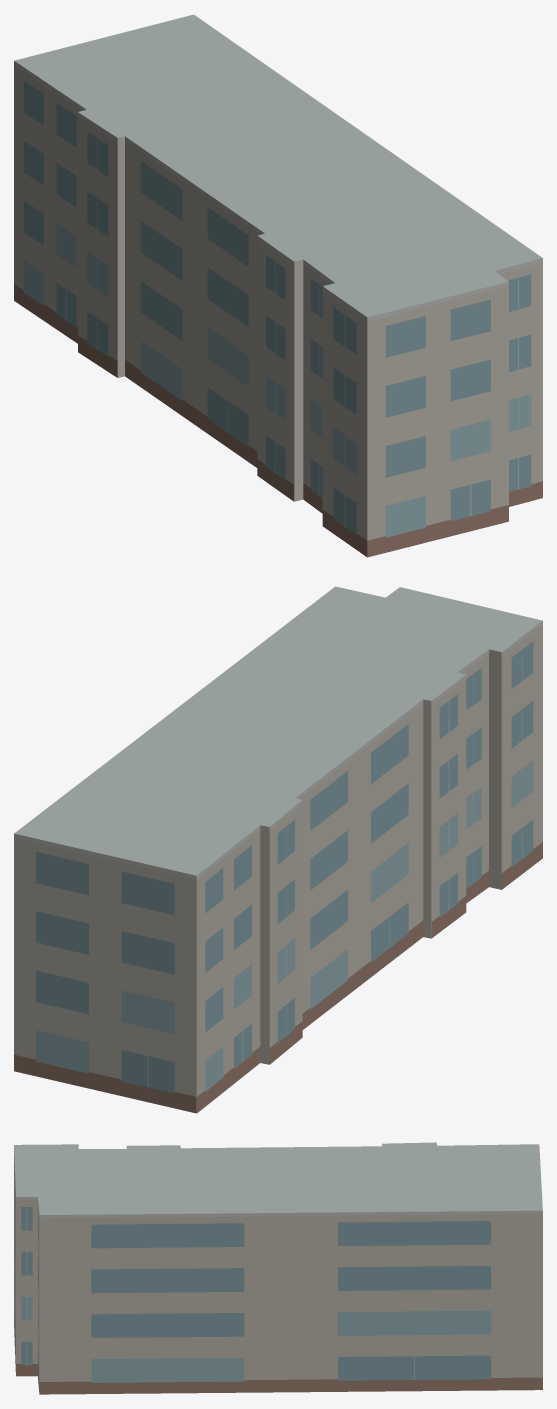
File: survey-upis-32465877.glb
3 views of the same model, one above another, from view 1: azimuth 30°, elevation 25°; view 2: azimuth 150°, elevation 25°; view 3: azimuth 270°, elevation 25° (orthographic). The views are drawn at different scales.
Visible parts, largest first — view 1: survey-upis-32465877.tmp; view 2: survey-upis-32465877.tmp; view 3: survey-upis-32465877.tmp.
Boxes of the visible parts, left/top/right/bottom form: survey-upis-32465877.tmp: left=14, top=14, right=542, bottom=557; survey-upis-32465877.tmp: left=14, top=586, right=542, bottom=1113; survey-upis-32465877.tmp: left=14, top=1142, right=542, bottom=1394.
Bounding box in the file's own units: 12.08 × 13.9 × 37.14.
